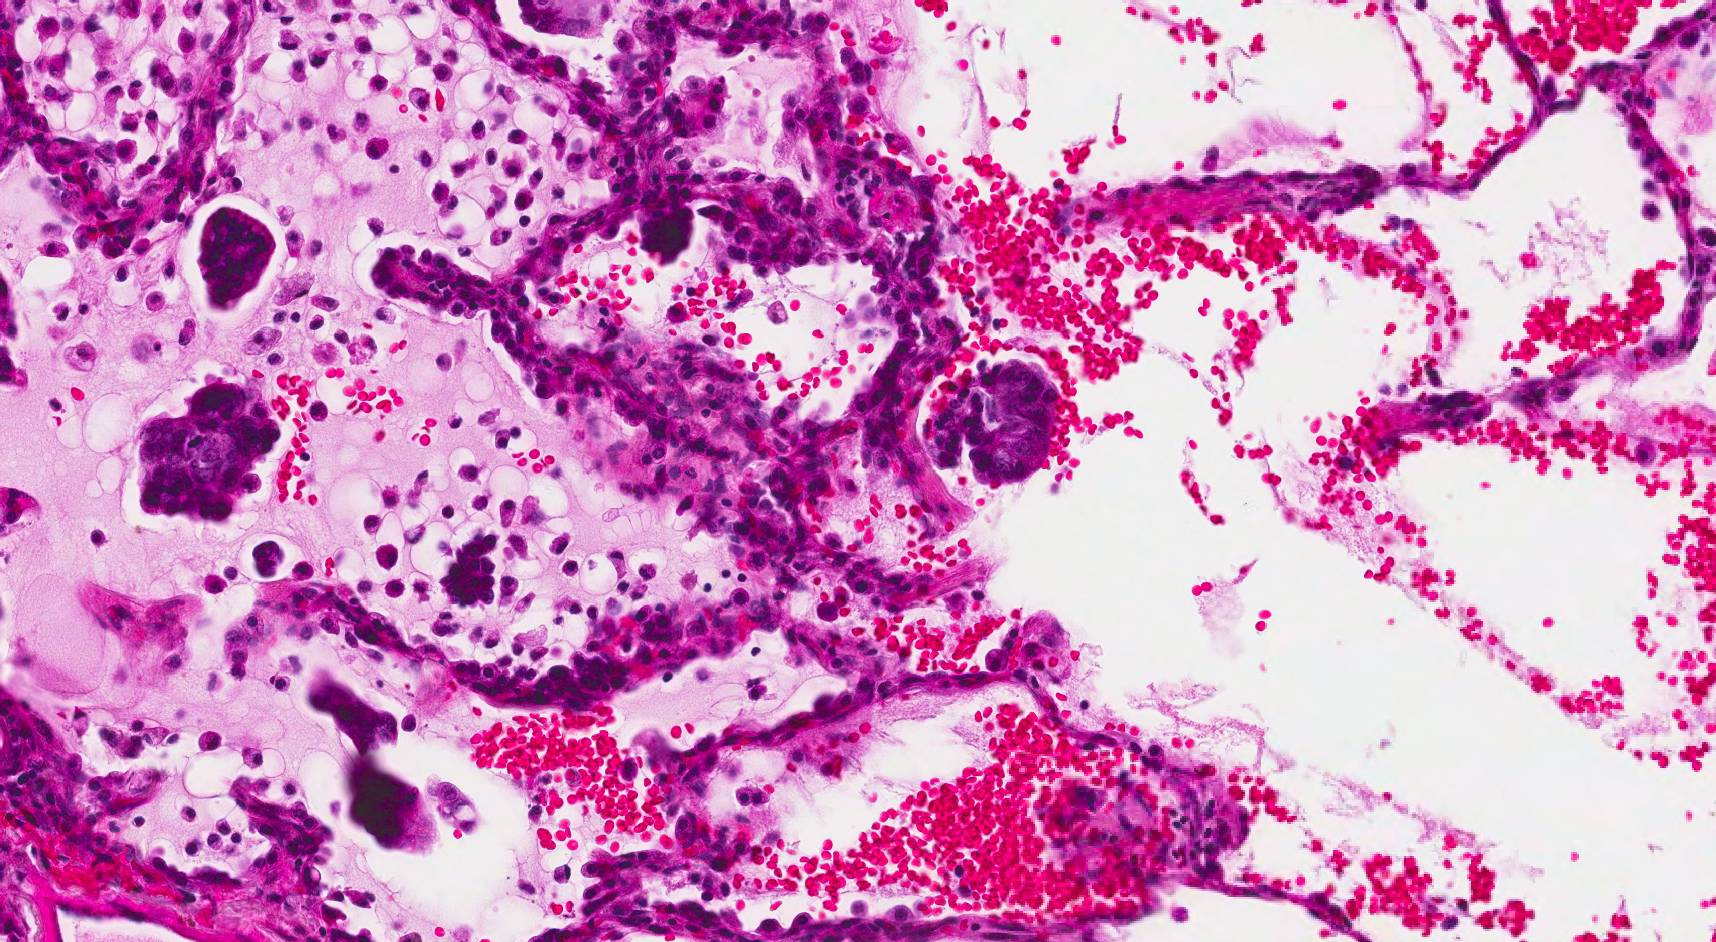stas: (142, 383, 279, 520), (930, 362, 1055, 492), (342, 757, 439, 857), (195, 207, 277, 309), (307, 674, 402, 752), (439, 527, 502, 606), (428, 778, 485, 841), (251, 535, 284, 577)
